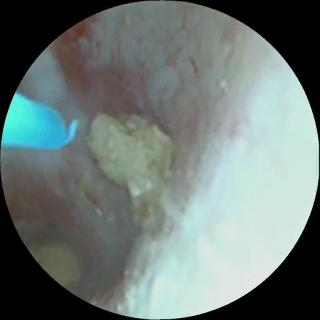fiber: (3, 97, 75, 147)
stone: (92, 115, 173, 226), (31, 241, 82, 284)
tissue: (3, 14, 314, 314)
